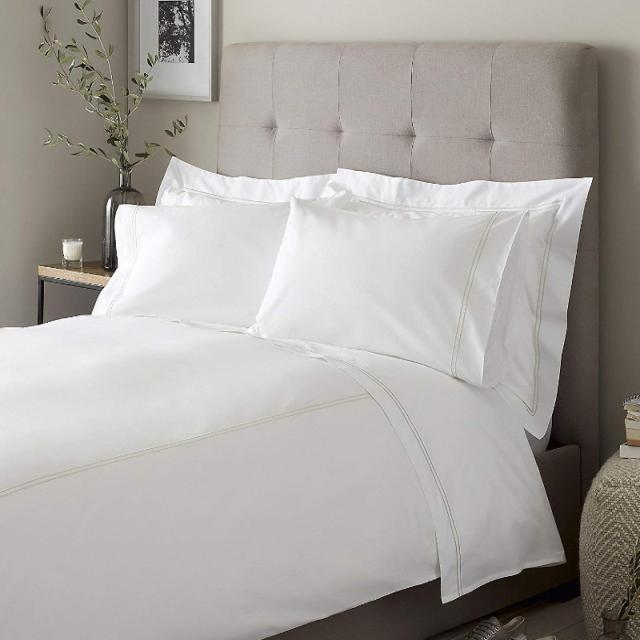bed: (0, 40, 600, 639)
